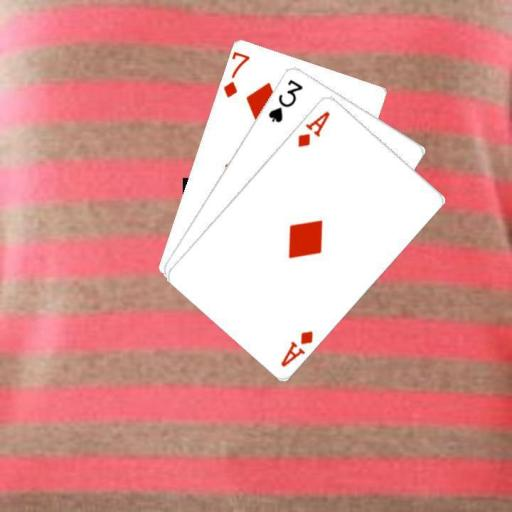card-corner: (264, 75, 304, 124), (220, 48, 251, 99), (277, 327, 315, 368), (294, 108, 332, 148)
